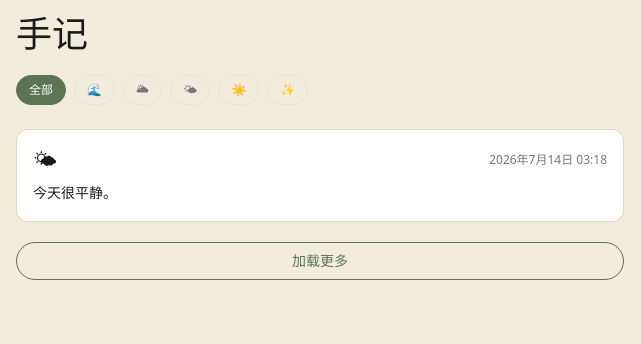
JournalPage › shows "加载更多" when more entries exist, and loads the next page on click
Step 1. Click the button "加载更多" → click(320, 261), box left=16, top=242, right=624, bottom=280
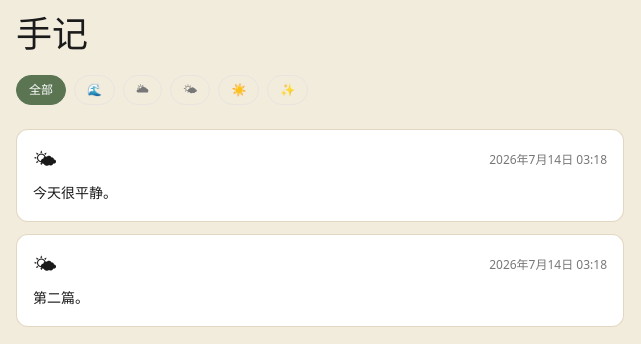
Check: the text "第二篇。" is shown, box left=33, top=288, right=89, bottom=307
